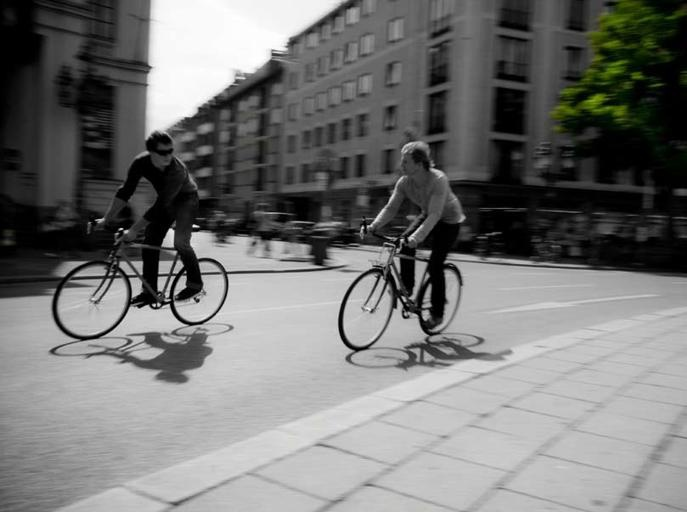non-vehicle: (53, 219, 229, 340), (338, 223, 463, 352)
